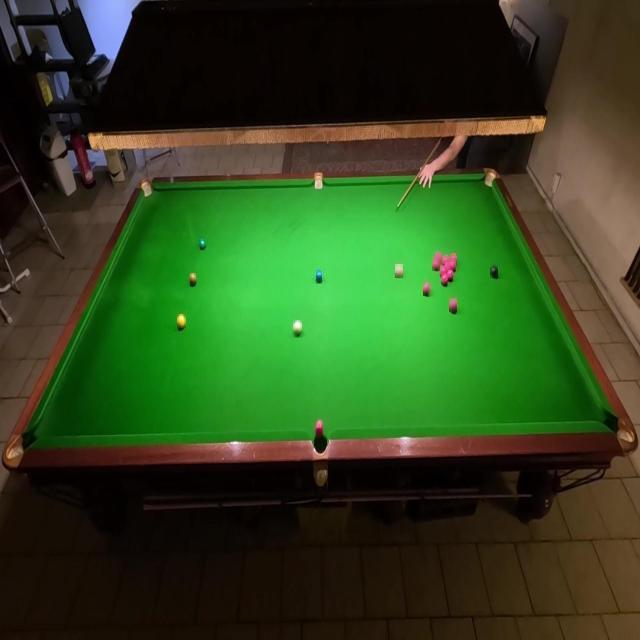Ball: (315, 418, 323, 438), (293, 320, 302, 335), (177, 314, 186, 328), (449, 298, 457, 312), (424, 282, 432, 296), (490, 264, 498, 278), (395, 264, 403, 278), (432, 258, 440, 271), (446, 269, 454, 282), (434, 252, 442, 264), (441, 274, 448, 286), (199, 238, 206, 250), (316, 270, 322, 283), (450, 258, 456, 270), (190, 274, 196, 286), (440, 266, 447, 276), (443, 256, 450, 264), (446, 262, 452, 270), (451, 253, 456, 258)
